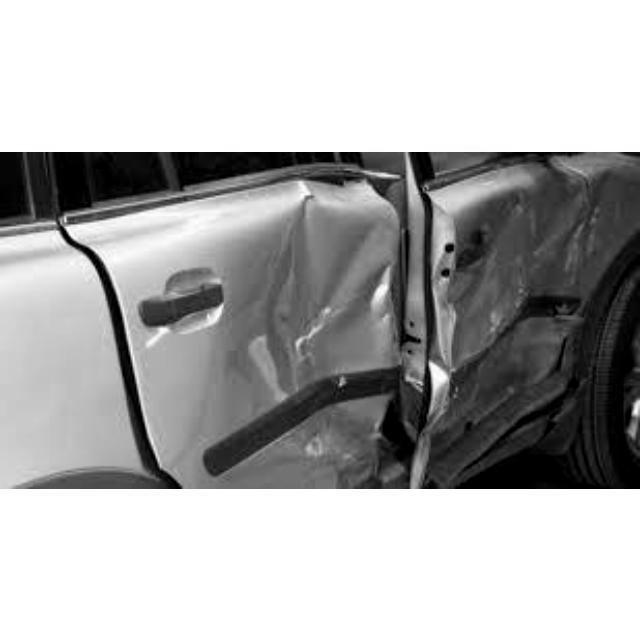doorouter-dent: (110, 178, 424, 486), (423, 157, 605, 449)
